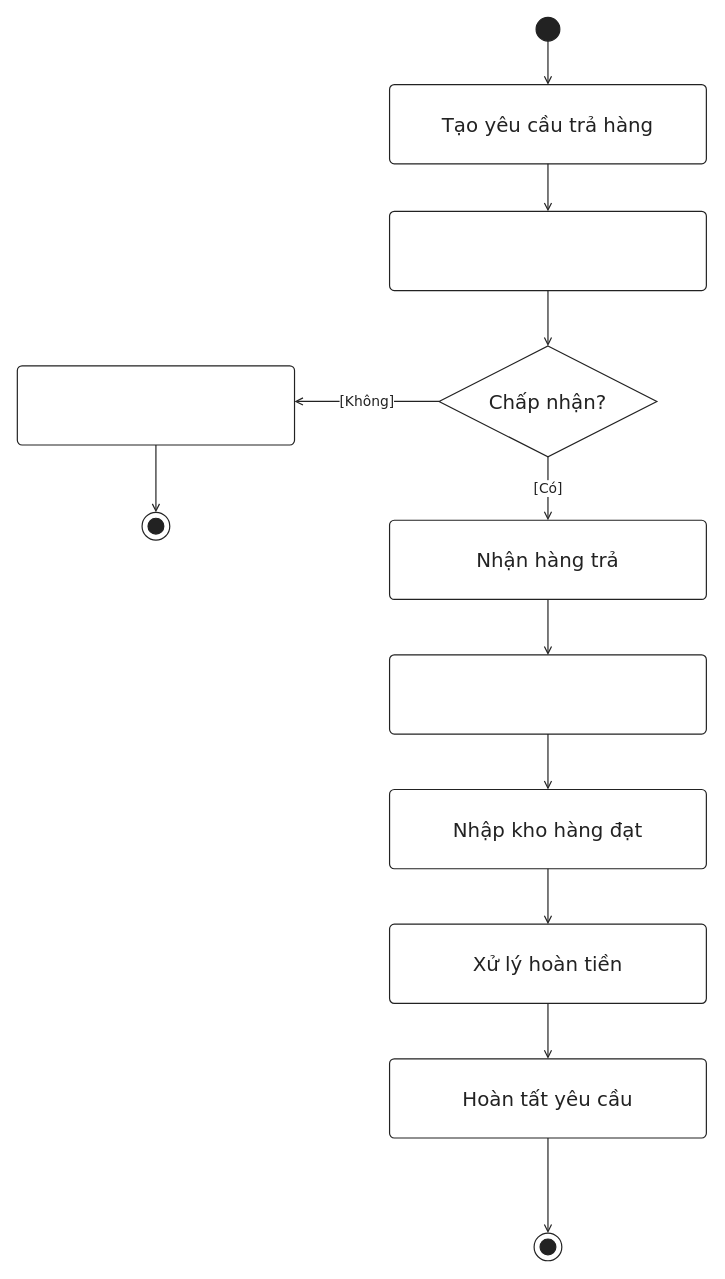
The diagram is 725 pixels wide and 1279 high, and some of its shapes have lost their labels. The centre of each missing label's shape, as x and y in pixels:
"Kiểm định hàng trả" belongs at point (547, 694).
"Từ chối yêu cầu" belongs at point (155, 405).
"Xét duyệt yêu cầu" belongs at point (547, 250).
